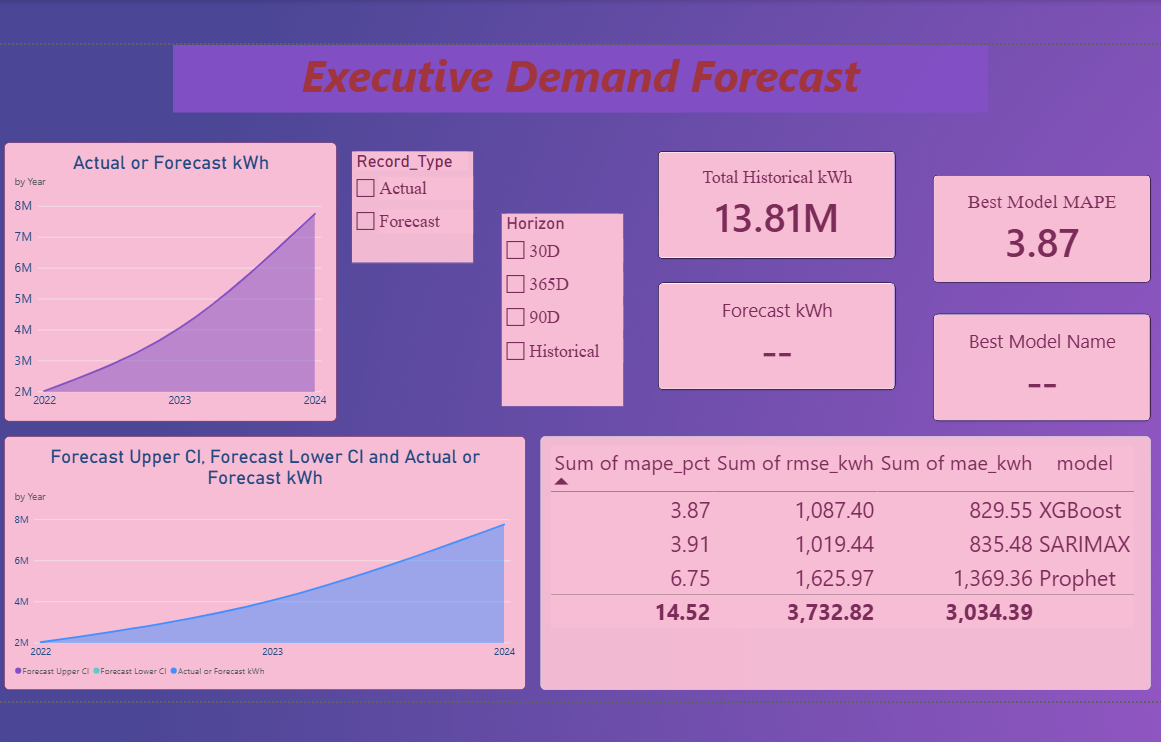

This screenshot's page, from the dashboard's own definition file:
{"tool":"powerbi","page":{"name":"Page 1","canvas":[1920,1080],"ordinal":0},"visuals":[{"type":"cardVisual","title":"Total Historicak kWh","fields":{"Data":["daily_forecast_best_model_365d.Total Historical kWh"]},"box":[1086.8,175,391.1,177],"z":0},{"type":"cardVisual","fields":{"Data":["daily_forecast_best_model_365d.Forecast kWh","daily_forecast_best_model_365d.Forecast kWh"]},"box":[1086.8,391.1,391.1,177],"z":1000},{"type":"cardVisual","fields":{"Data":["daily_forecast_best_model_365d.Best Model Name"]},"box":[1539.6,442.5,358.1,177],"z":2000},{"type":"cardVisual","fields":{"Data":["daily_forecast_best_model_365d.Best Model MAPE"]},"box":[1539.6,214.1,358.1,177],"z":3000},{"type":"lineChart","fields":{"Category":["dim_date.date.Variation.Date Hierarchy.Year","dim_date.date.Variation.Date Hierarchy.Quarter","dim_date.date.Variation.Date Hierarchy.Month","dim_date.date.Variation.Date Hierarchy.Day"],"Y":["daily_forecast_best_model_365d.Actual or Forecast kWh"]},"box":[10.3,160.5,547.5,459],"z":4000},{"type":"slicer","fields":{"Values":["powerbi_forecast_master.Horizon"]},"box":[829.5,277.9,199.7,317],"z":5000},{"type":"tableEx","fields":{"Values":["Sum(model_metrics.mape_pct)","Sum(model_metrics.rmse_kwh)","Sum(model_metrics.mae_kwh)","model_metrics.model"]},"box":[893.3,644.3,1004.5,417.8],"z":6000},{"type":"slicer","fields":{"Values":["powerbi_forecast_master.Record_Type"]},"box":[582.5,175,199.7,183.2],"z":7000},{"type":"lineChart","fields":{"Category":["dim_date.date.Variation.Date Hierarchy.Year","dim_date.date.Variation.Date Hierarchy.Quarter","dim_date.date.Variation.Date Hierarchy.Month","dim_date.date.Variation.Date Hierarchy.Day"],"Y":["daily_forecast_best_model_365d.Forecast Upper CI","daily_forecast_best_model_365d.Forecast Lower CI","daily_forecast_best_model_365d.Actual or Forecast kWh"]},"box":[10.3,644.3,858.3,417.8],"z":8000},{"type":"textbox","box":[288.2,0,1342,111.1],"z":9000}]}

Visuals, with their boxes on the page's 1920x1080 design canvas (x1, y1, x2, y2). These are canvas units, not pixel positions in the 1161x742 screenshot, which may show the page scaled, cropped or inside an application window:
"Total Historicak kWh" cardVisual: <bbox>1087, 175, 1478, 352</bbox>
cardVisual - daily_forecast_best_model_365d.Forecast kWh x daily_forecast_best_model_365d.Forecast kWh: <bbox>1087, 391, 1478, 568</bbox>
cardVisual - daily_forecast_best_model_365d.Best Model Name: <bbox>1540, 442, 1898, 620</bbox>
cardVisual - daily_forecast_best_model_365d.Best Model MAPE: <bbox>1540, 214, 1898, 391</bbox>
lineChart - dim_date.date.Variation.Date Hierarchy.Year x dim_date.date.Variation.Date Hierarchy.Quarter: <bbox>10, 160, 558, 620</bbox>
slicer - powerbi_forecast_master.Horizon: <bbox>830, 278, 1029, 595</bbox>
tableEx - Sum(model_metrics.mape_pct) x Sum(model_metrics.rmse_kwh): <bbox>893, 644, 1898, 1062</bbox>
slicer - powerbi_forecast_master.Record_Type: <bbox>582, 175, 782, 358</bbox>
lineChart - dim_date.date.Variation.Date Hierarchy.Year x dim_date.date.Variation.Date Hierarchy.Quarter: <bbox>10, 644, 869, 1062</bbox>
textbox: <bbox>288, 0, 1630, 111</bbox>
